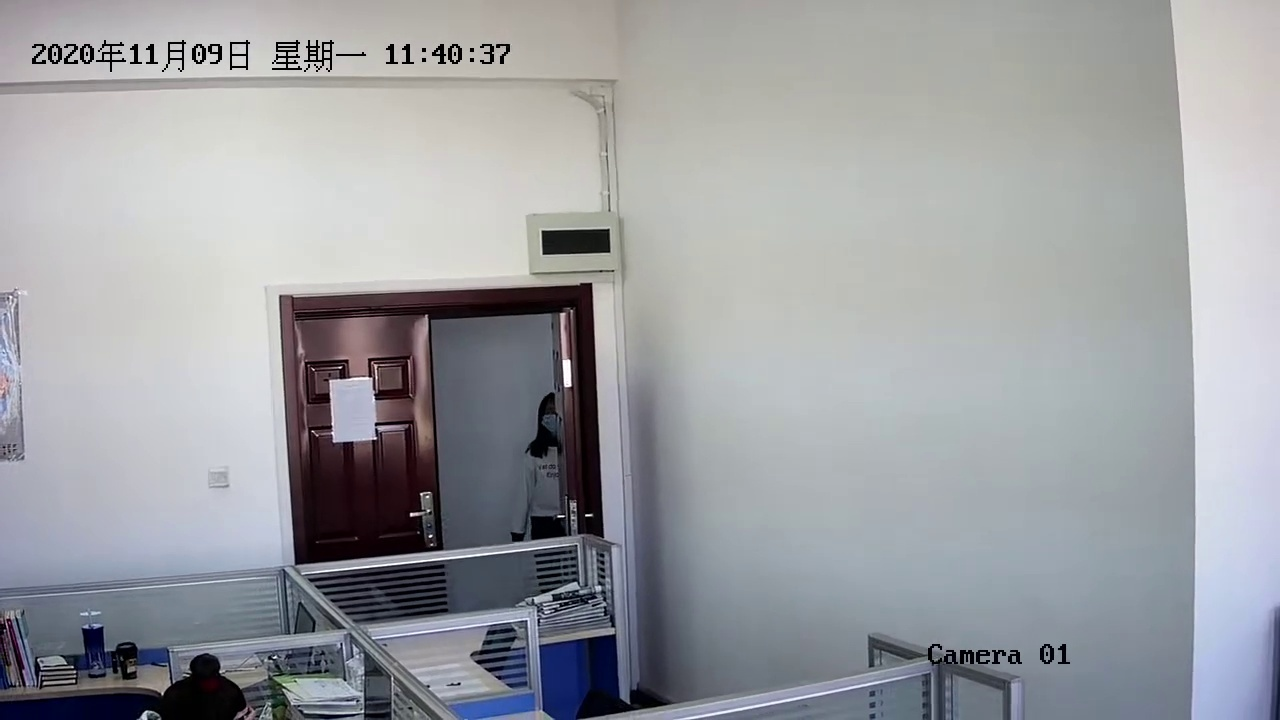mask: (529, 391, 570, 443)
